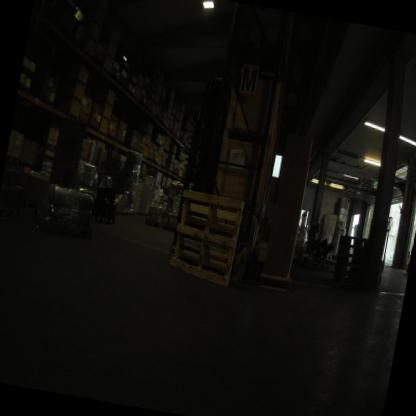pallet: (165, 186, 245, 288), (143, 218, 161, 229), (70, 93, 83, 106), (44, 141, 59, 151), (67, 110, 78, 122), (76, 76, 86, 88), (104, 99, 114, 108), (100, 114, 111, 122), (96, 129, 107, 137), (160, 142, 165, 147), (144, 144, 150, 148), (141, 154, 147, 158), (156, 163, 161, 167), (157, 153, 163, 156), (170, 160, 174, 164), (172, 152, 175, 155)
